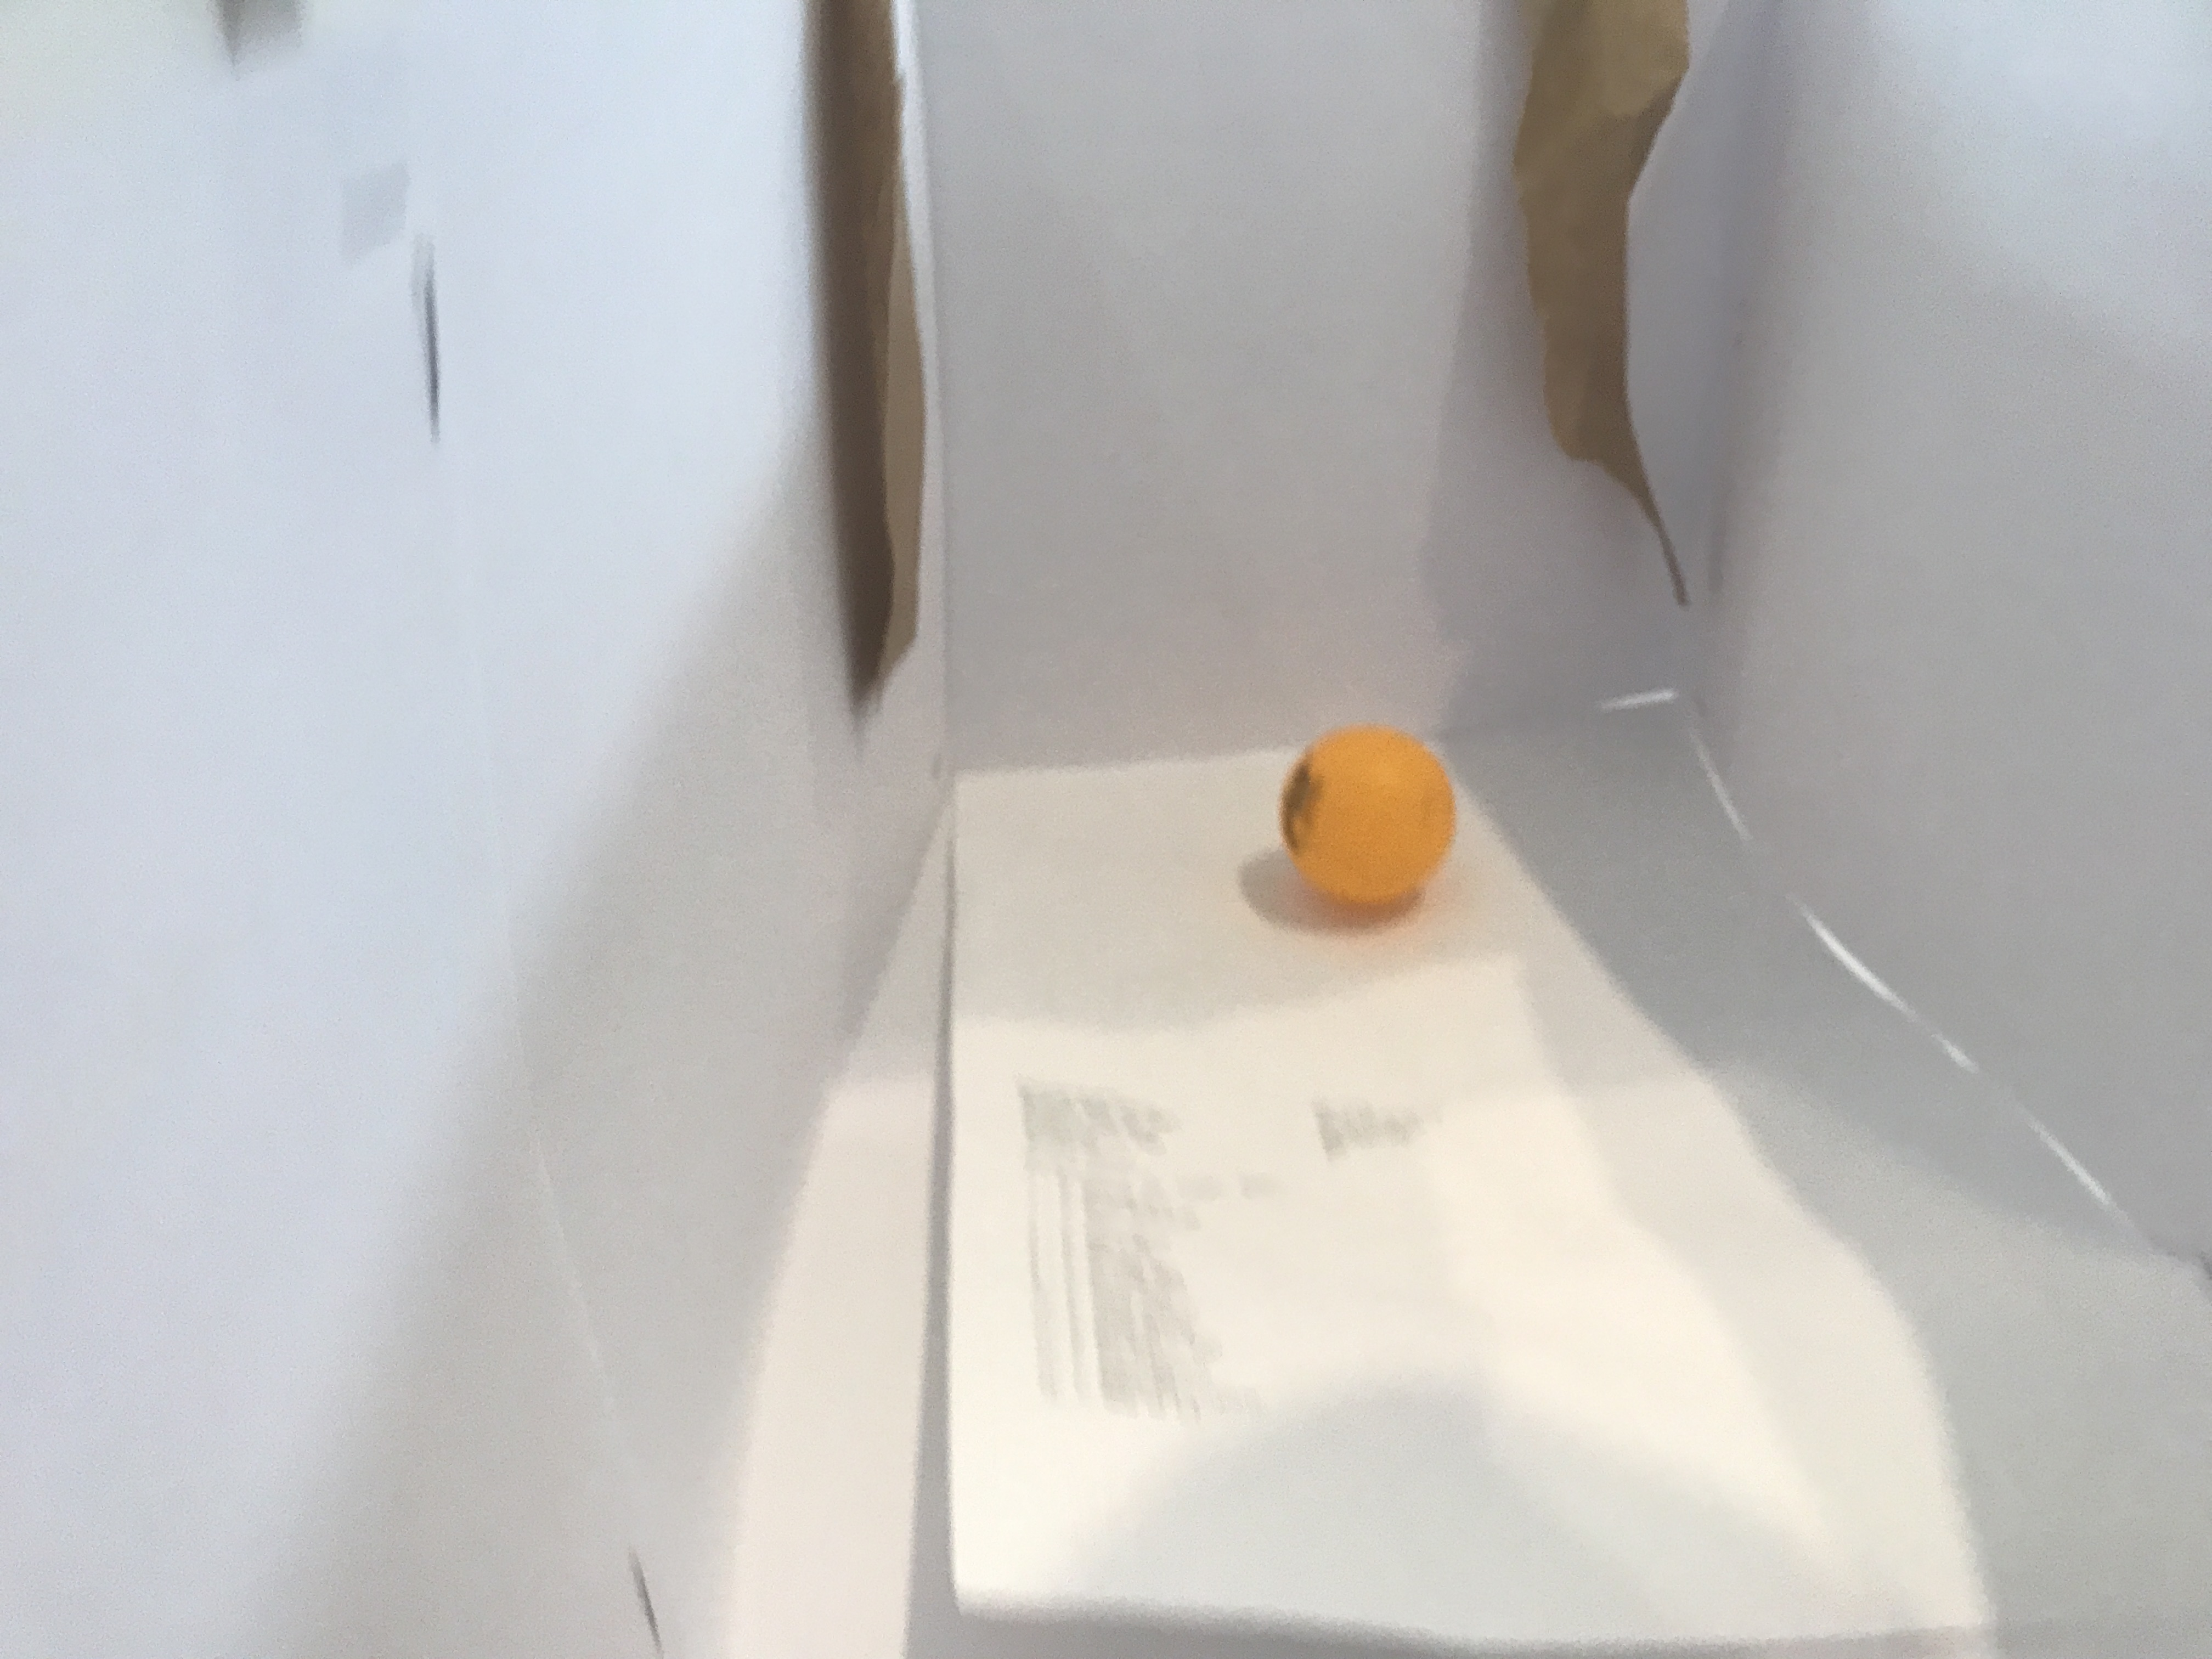pp: (1270, 721, 1468, 908)
